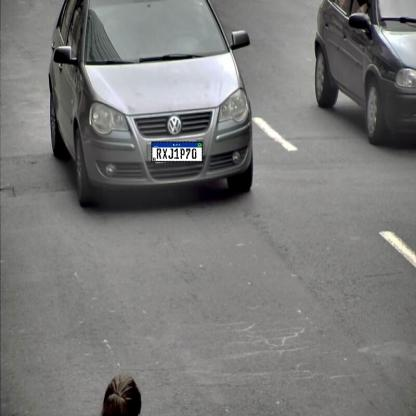PlacaM: (151, 141, 203, 162)
